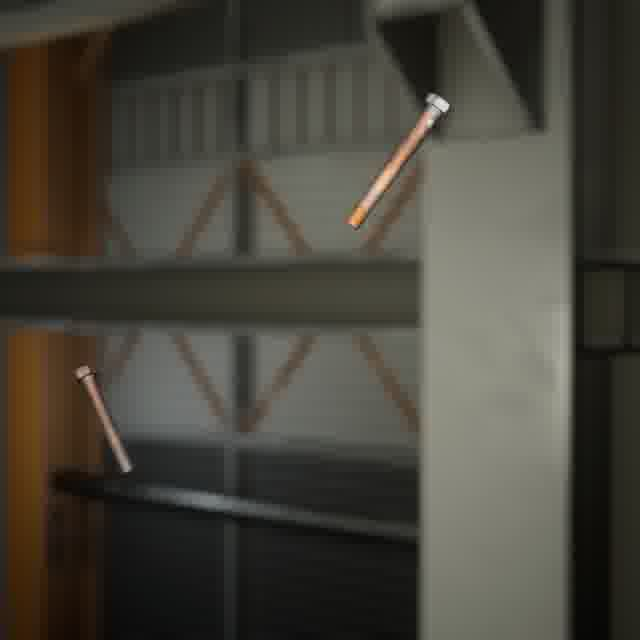bolt: (341, 88, 456, 233), (68, 360, 138, 479)
